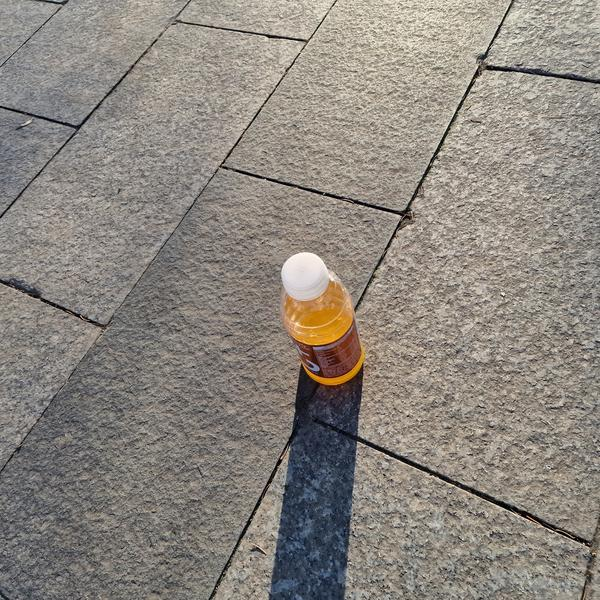plastic_bottle: (262, 240, 378, 396)
